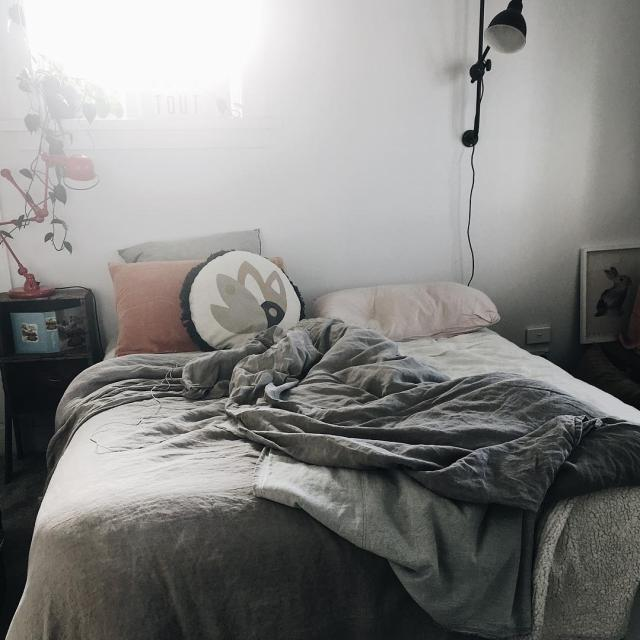bed: (76, 270, 640, 640)
